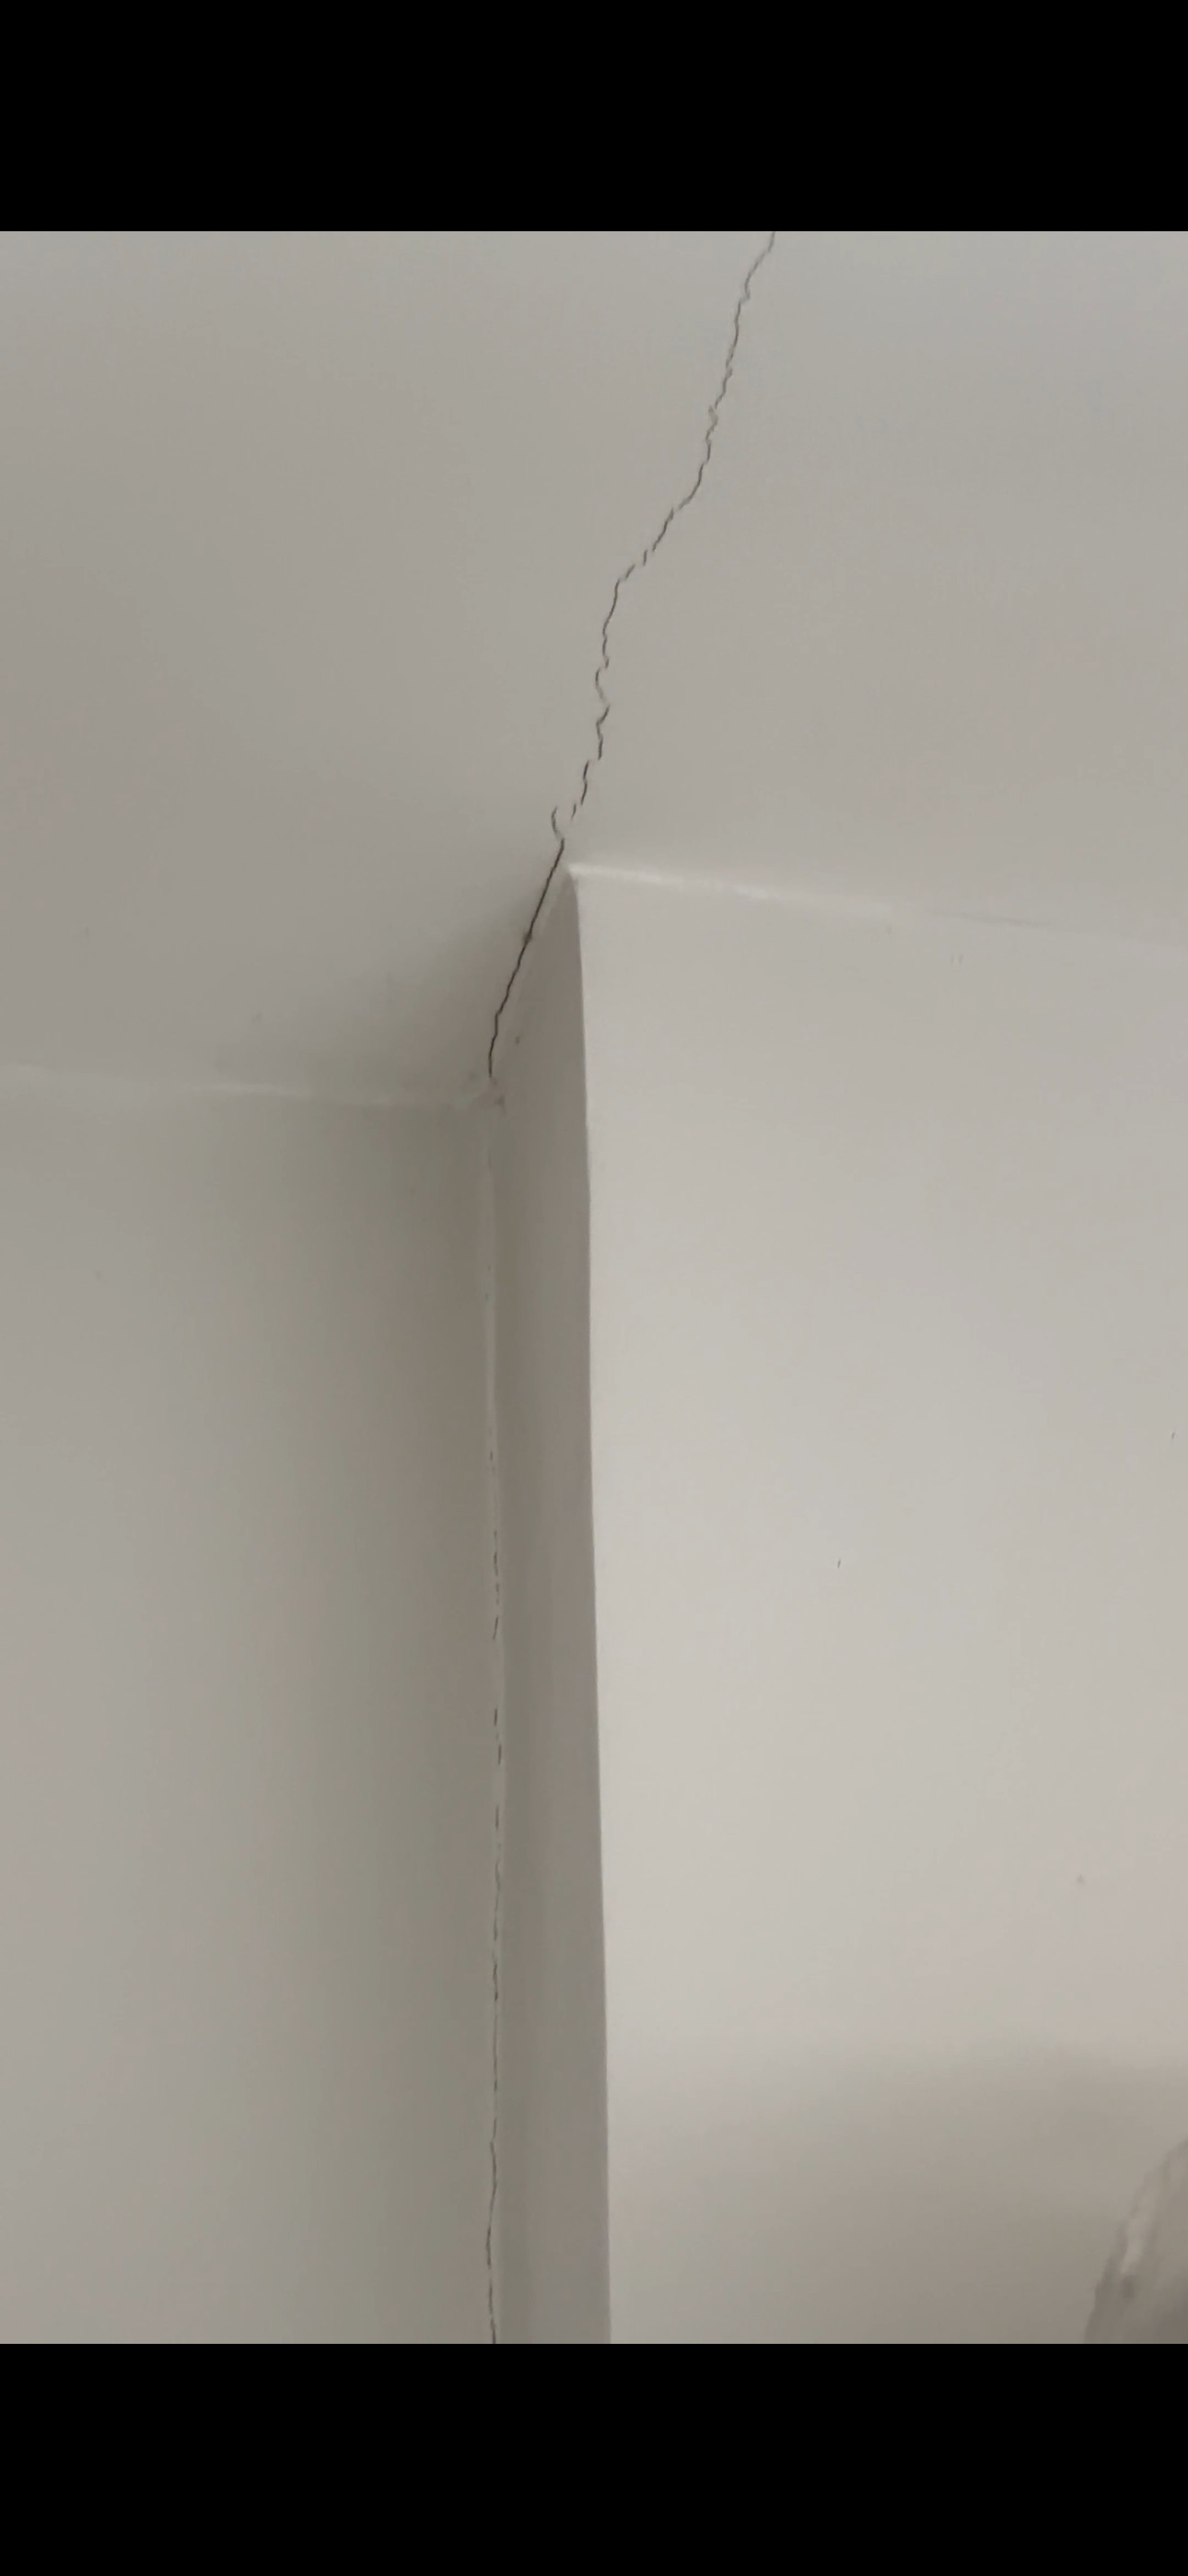Low: (468, 218, 843, 1079)
